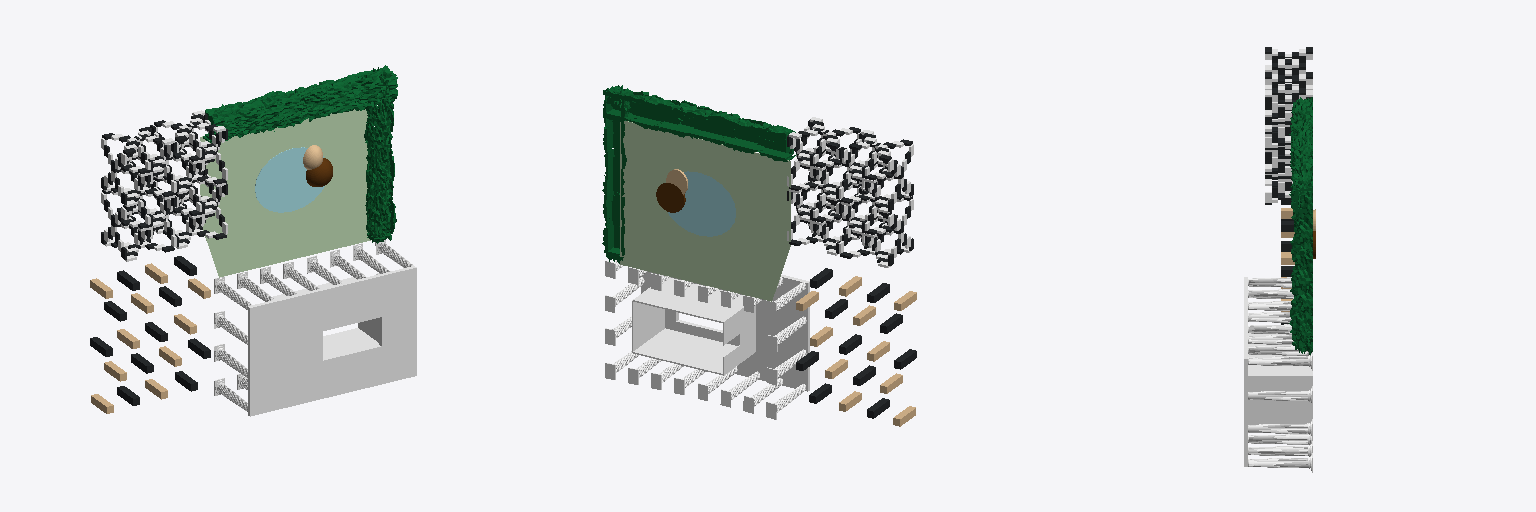
The model's file is tinker.obj.
The picture shows the model from 3 angles: view 1: azimuth 30°, elevation 25°; view 2: azimuth 150°, elevation 25°; view 3: azimuth 270°, elevation 25°; orthographic projection.
Parts seen in each view (by area): view 1: obj_0; view 2: obj_0; view 3: obj_0.
Boxes of the visible parts, x1=… form: obj_0: x1=90, y1=65, x2=416, y2=416; obj_0: x1=602, y1=85, x2=916, y2=426; obj_0: x1=1244, y1=47, x2=1315, y2=472.
Bounding box in the file's own units: 214 × 199 × 45.